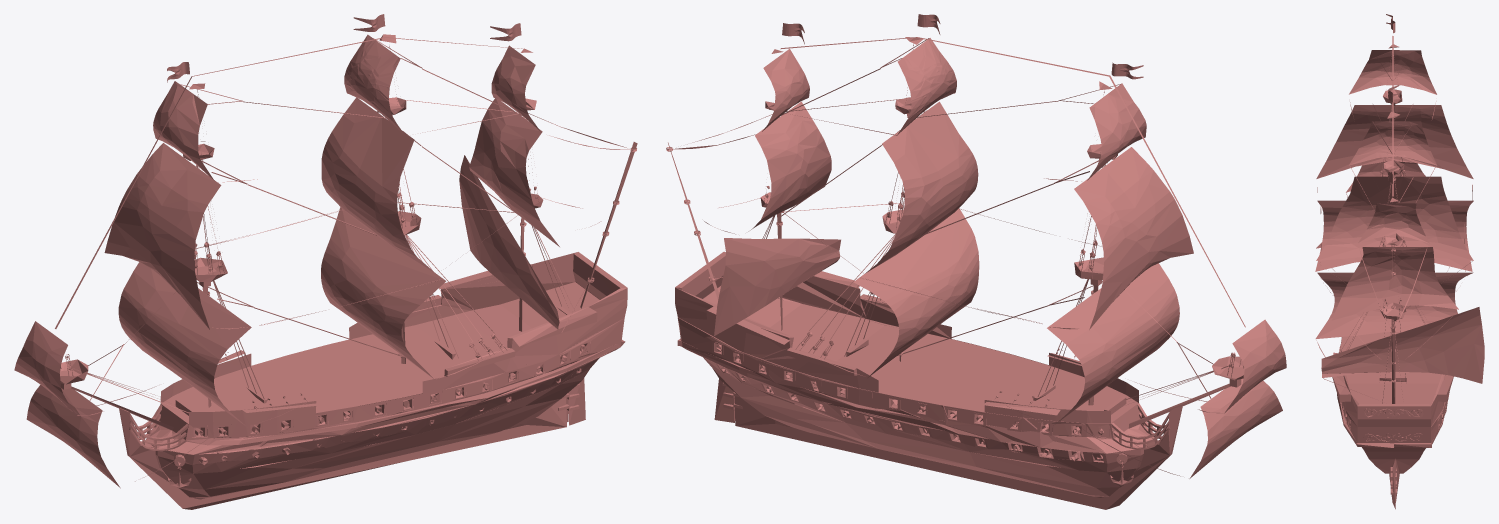
Rendered from ship_r_optimized_light_v2.glb.
The picture shows the model from 3 angles, left to right: view 1: azimuth 30°, elevation 25°; view 2: azimuth 150°, elevation 25°; view 3: azimuth 270°, elevation 25°; orthographic projection. The views are drawn at different scales.
Visible parts, largest first — view 1: Object_30, Object_33, Object_16, Object_39, Object_7, Object_36, Object_40, Object_32, Object_31; view 2: Object_30, Object_33, Object_39, Object_16, Object_7, Object_36, Object_40, Object_32, Object_31; view 3: Object_30, Object_33, Object_39, Object_7, Object_16, Object_6.
Boxes of the visible parts, box(x1,y1,x2,y2) form: Object_30: box(14, 34, 559, 488); Object_33: box(60, 34, 637, 509); Object_16: box(162, 340, 625, 489); Object_39: box(145, 252, 627, 476); Object_7: box(55, 37, 636, 481); Object_36: box(179, 399, 560, 499); Object_40: box(195, 344, 586, 465); Object_32: box(129, 404, 188, 451); Object_31: box(194, 364, 583, 463); Object_30: box(714, 38, 1286, 478); Object_33: box(668, 37, 1244, 509); Object_39: box(675, 252, 1152, 476); Object_16: box(677, 338, 1136, 494); Object_7: box(666, 37, 1245, 476); Object_36: box(741, 397, 1119, 497); Object_40: box(716, 345, 1103, 461); Object_32: box(1111, 403, 1170, 449); Object_31: box(714, 343, 1103, 462); Object_30: box(1315, 50, 1484, 383); Object_33: box(1332, 44, 1453, 509); Object_39: box(1357, 376, 1430, 451); Object_7: box(1316, 36, 1472, 403); Object_16: box(1337, 345, 1449, 473); Object_6: box(1363, 408, 1423, 441).
Bounding box in the file's own units: 16.08 × 11.67 × 5.24.
